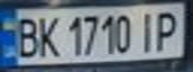0: (115, 10, 136, 54)
1: (63, 11, 84, 56), (100, 11, 118, 55)
7: (81, 11, 100, 56)
B: (9, 13, 42, 60)
I: (136, 8, 160, 53)
K: (33, 12, 60, 59)
P: (151, 7, 184, 53)
